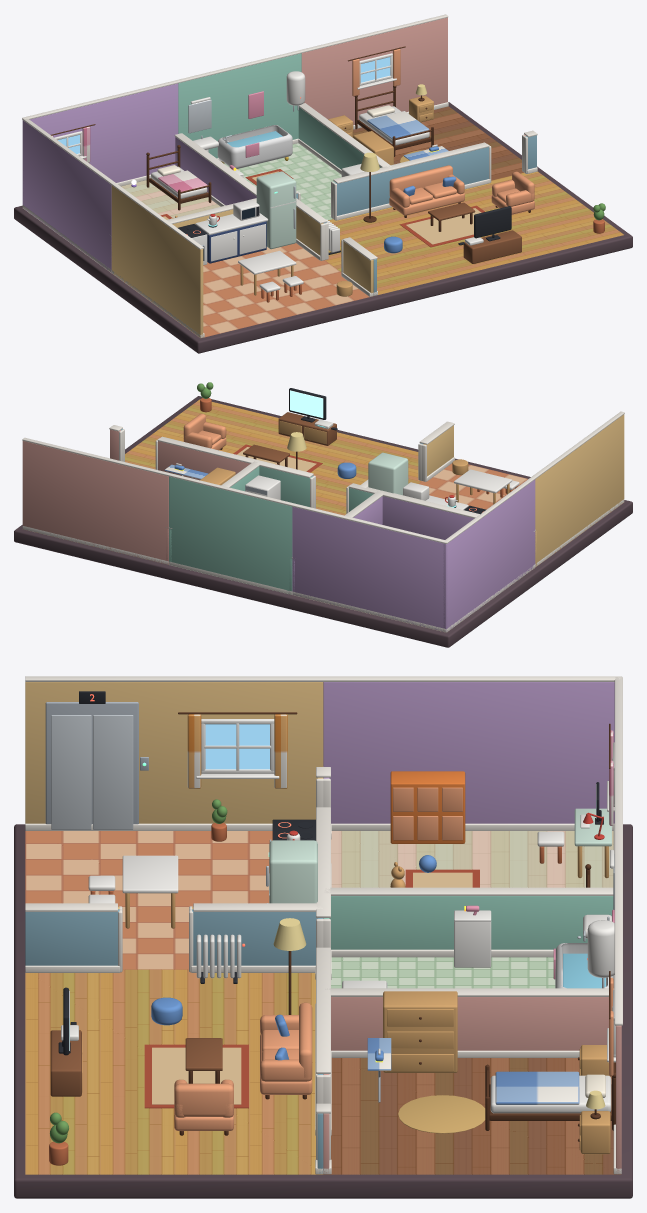
File: floor2.glb
The picture shows the model from 3 angles, top to bottom: view 1: azimuth 30°, elevation 25°; view 2: azimuth 150°, elevation 25°; view 3: azimuth 270°, elevation 25°; orthographic projection. The views are drawn at different scales.
Visible parts, largest first — view 1: floor_living, slab, wall_bedroom_y8.0_0, wall_kitchen_x0.0_0, wall_kids_y8.0_0, floor_kitchen, wall_kids_x0.0_0, wall_bath_y8.0_0, wall_living_y4.0_1, floor_bedroom, floor_bath, body.003 (+29 smaller); view 2: wall_kids_y8.0_0, wall_bedroom_y8.0_0, slab, wall_bath_y8.0_0, floor_living, wall_kids_x0.0_0, wall_kitchen_x0.0_0, wall_kids_y4.0_1, cap_ext_north, floor_kitchen, wall_bedroom_y4.0_0, body.003 (+17 smaller); view 3: floor_living, wall_kids_x0.0_0, slab, wall_kitchen_x0.0_0, floor_bedroom, floor_kitchen, wall_bath_x4.0_0, floor_kids, wall_bedroom_x7.2_0, floor_bath, wall_living_x4.5_0, wall_living_x4.5_1 (+51 smaller).
Boxes of the visible parts, box(x1,y1,x2,y2) form: floor_living: box(325, 171, 623, 294); slab: box(14, 102, 632, 353); wall_bedroom_y8.0_0: box(301, 17, 447, 124); wall_kitchen_x0.0_0: box(111, 185, 203, 337); wall_kids_y8.0_0: box(22, 83, 178, 198); floor_kitchen: box(114, 243, 369, 337); wall_kids_x0.0_0: box(22, 120, 111, 271); wall_bath_y8.0_0: box(178, 53, 301, 158); wall_living_y4.0_1: box(335, 147, 488, 215); floor_bedroom: box(353, 106, 523, 180); floor_bath: box(224, 143, 341, 220); body.003: box(256, 171, 296, 249); wall_kids_y8.0_0: box(292, 506, 447, 630); wall_bedroom_y8.0_0: box(22, 441, 168, 564); slab: box(14, 396, 632, 647); wall_bath_y8.0_0: box(169, 476, 292, 590); floor_living: box(125, 399, 421, 515); wall_kids_x0.0_0: box(443, 479, 535, 629); wall_kitchen_x0.0_0: box(535, 414, 624, 565); wall_kids_y4.0_1: box(382, 496, 474, 539); cap_ext_north: box(22, 437, 447, 543); floor_kitchen: box(419, 463, 622, 567); wall_bedroom_y4.0_0: box(158, 441, 250, 480); body.003: box(368, 452, 408, 495); floor_living: box(25, 969, 323, 1174); wall_kids_x0.0_0: box(323, 682, 614, 823); slab: box(14, 824, 632, 1198); wall_kitchen_x0.0_0: box(25, 682, 323, 823); floor_bedroom: box(323, 1058, 621, 1174); floor_kitchen: box(25, 831, 272, 969); wall_bath_x4.0_0: box(329, 896, 613, 949); floor_kids: box(331, 831, 613, 887); wall_bedroom_x7.2_0: box(331, 997, 608, 1050); floor_bath: box(331, 957, 555, 988); wall_living_x4.5_0: box(25, 909, 119, 965); wall_living_x4.5_1: box(192, 909, 317, 965).
Bounding box in the file's own units: 11.3 × 2.54 × 8.3.
Materials: 49 (8 with a texture image).
